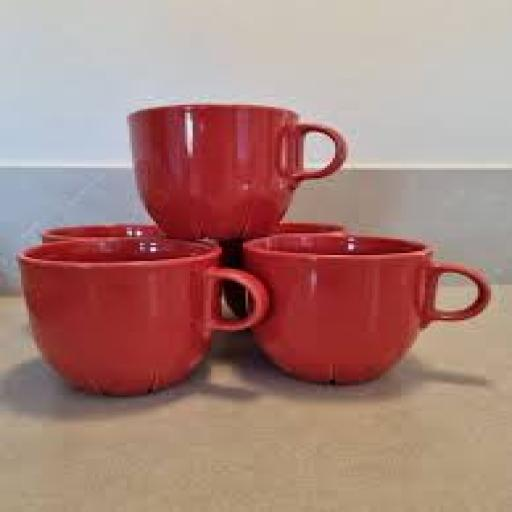red mug: (18, 239, 264, 391), (245, 233, 488, 378), (127, 105, 346, 237)
